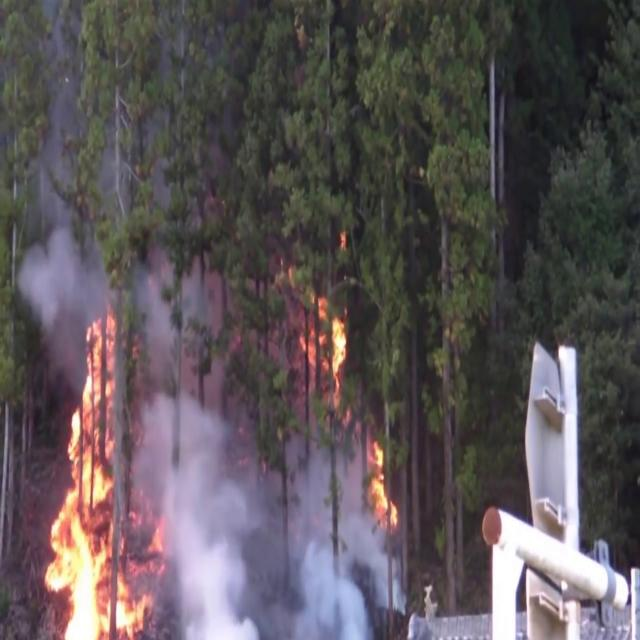fire: (166, 435, 245, 640), (66, 390, 115, 636)
smoke: (243, 471, 364, 624), (26, 247, 90, 335)
